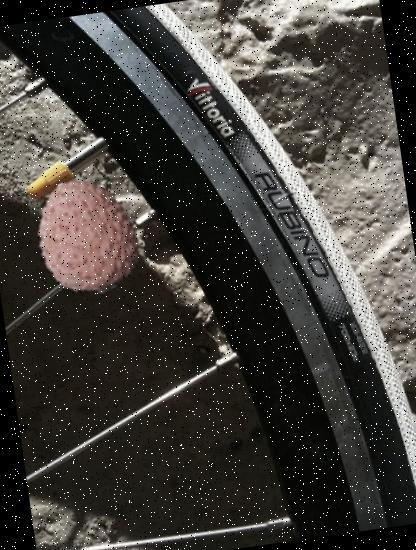Lychee: (20, 170, 153, 303)
